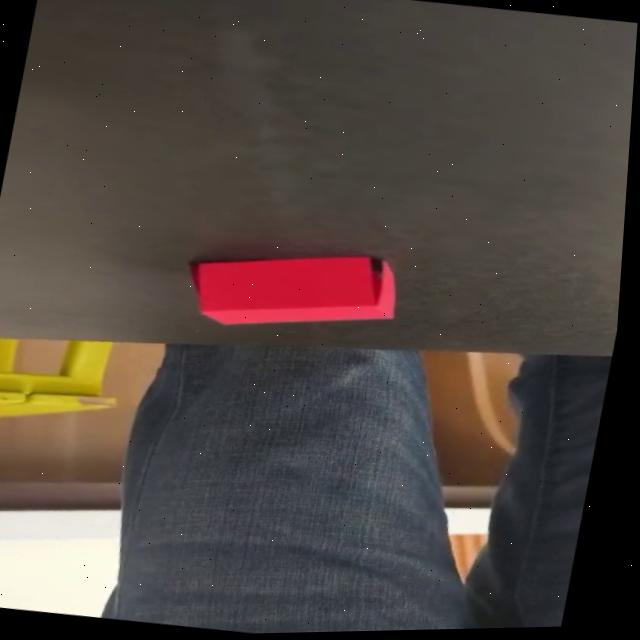red block: (177, 234, 409, 349)
